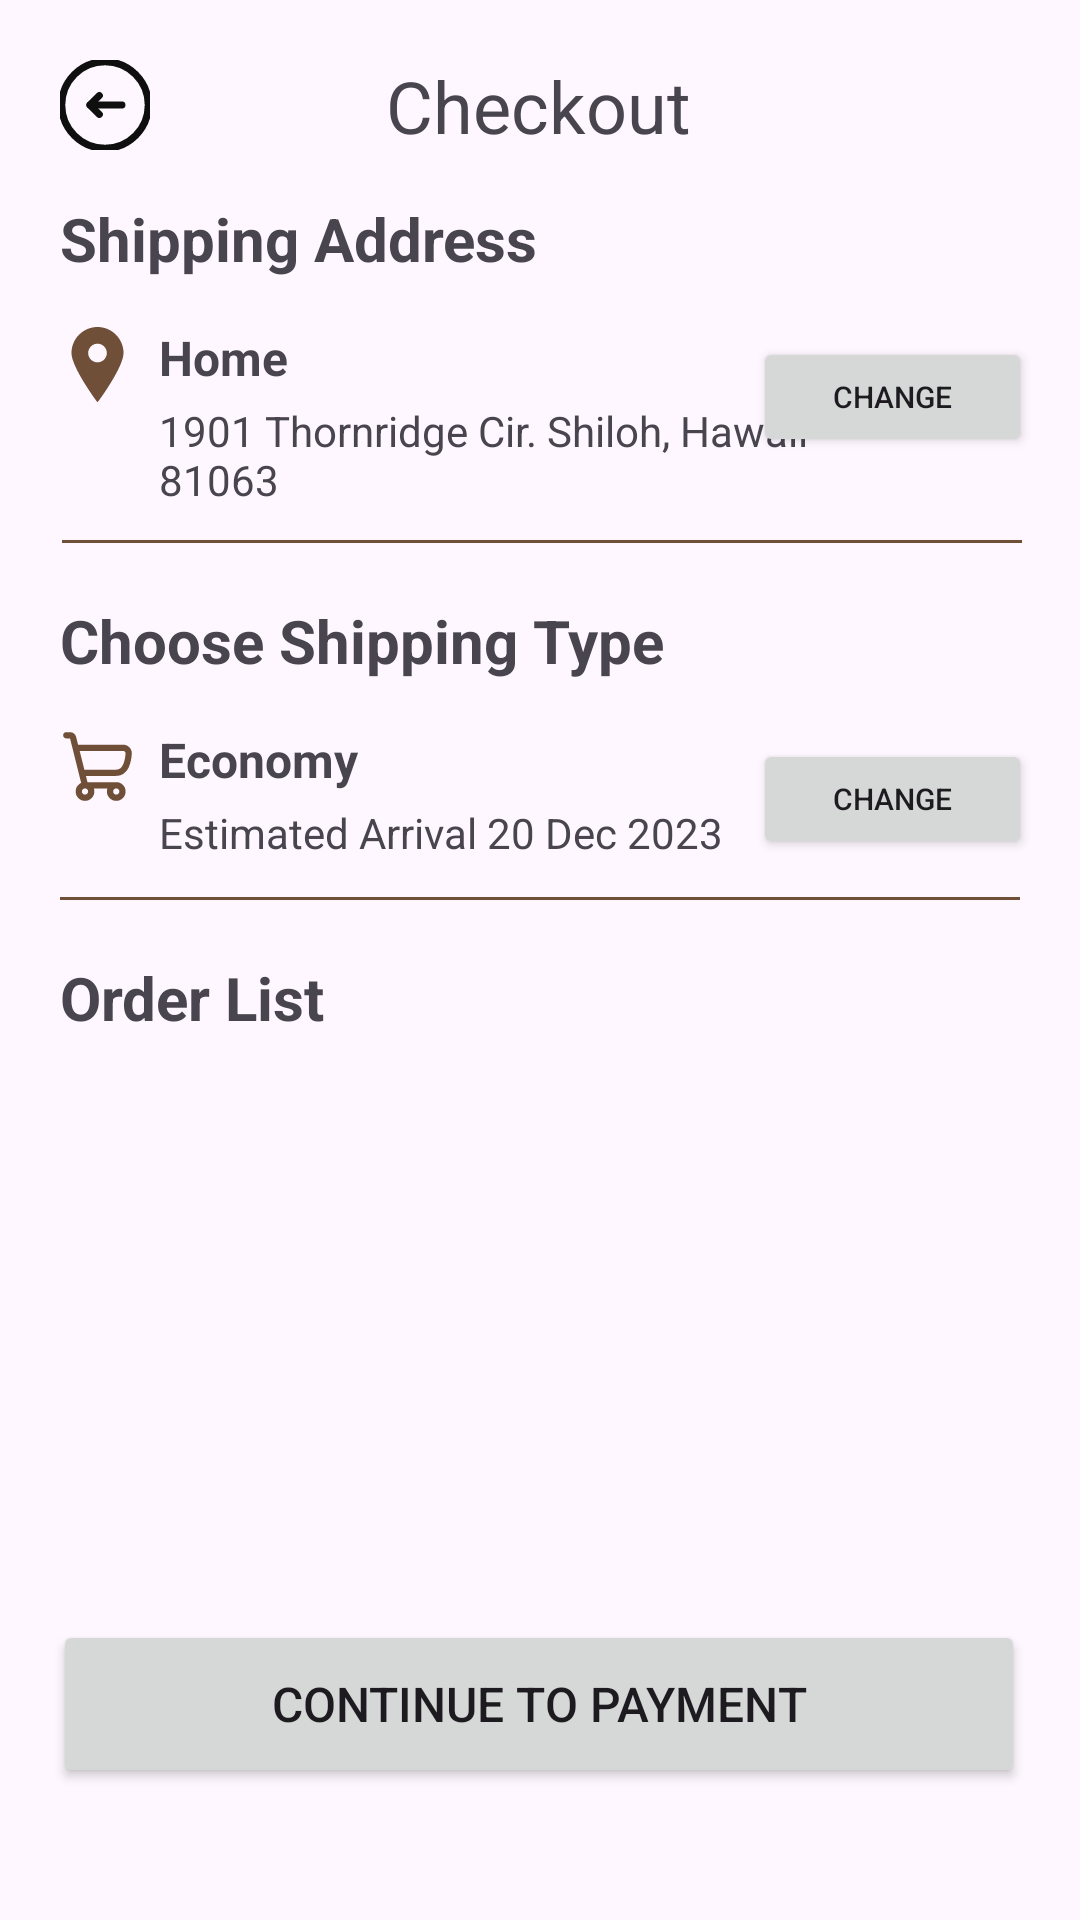

Where to tap for icons on this 1080px×1920px app screen, as (x,y):
back: (105,105)
location sign: (97,364)
shopping cart: (97,766)
